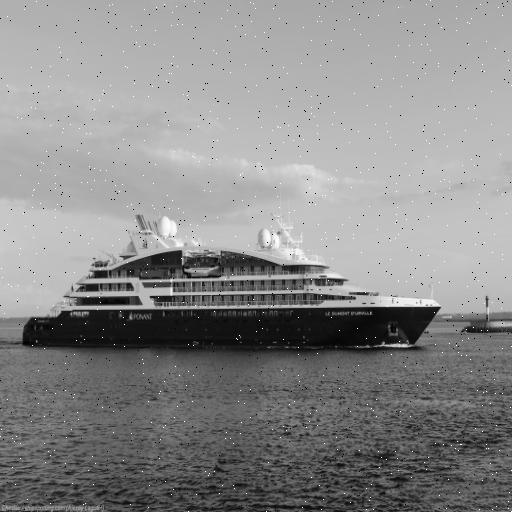cruises: (22, 207, 444, 355)
